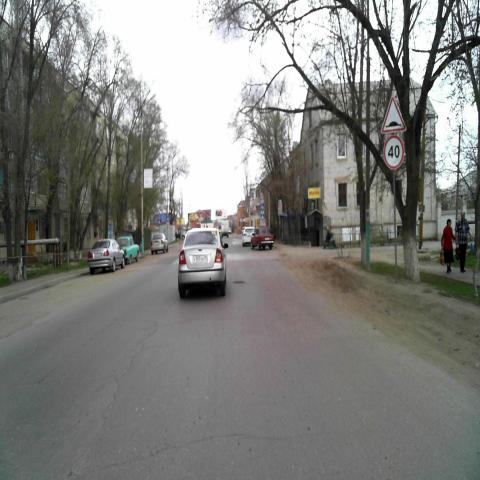1_17: (380, 94, 407, 134)
